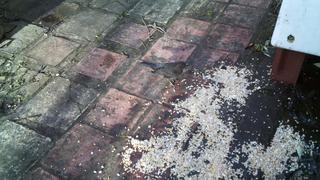blackbird: (139, 61, 189, 88)
